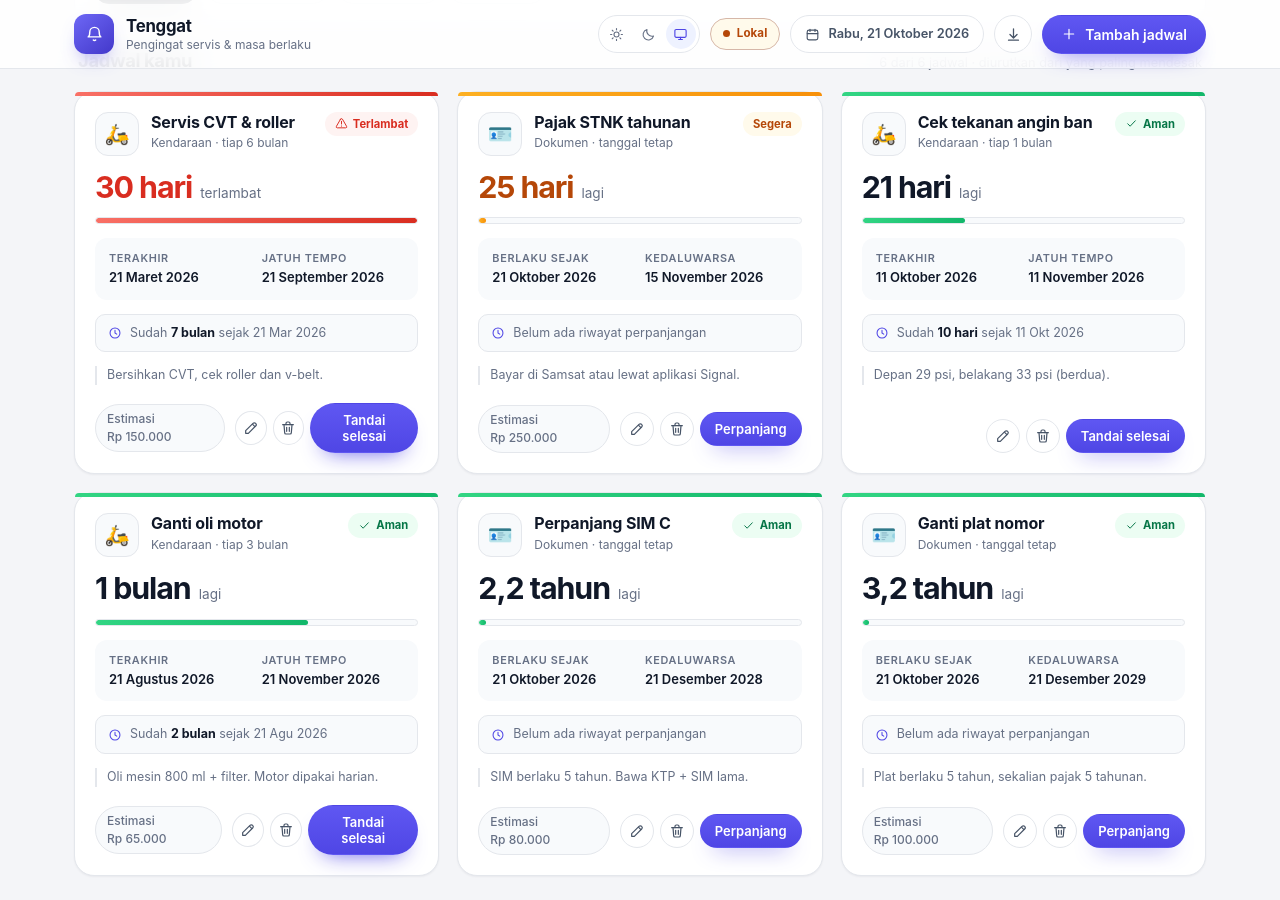
Test case: App › menandai selesai dan memperbarui tanggal terakhir
(page scrolled)
Expected: the text "Ganti oli motor" is shown, [151,513,263,533]
Click the button "Tandai selesai" next to "Rp 65.000" at {"x": 363, "y": 830}, box [308,805,418,855]
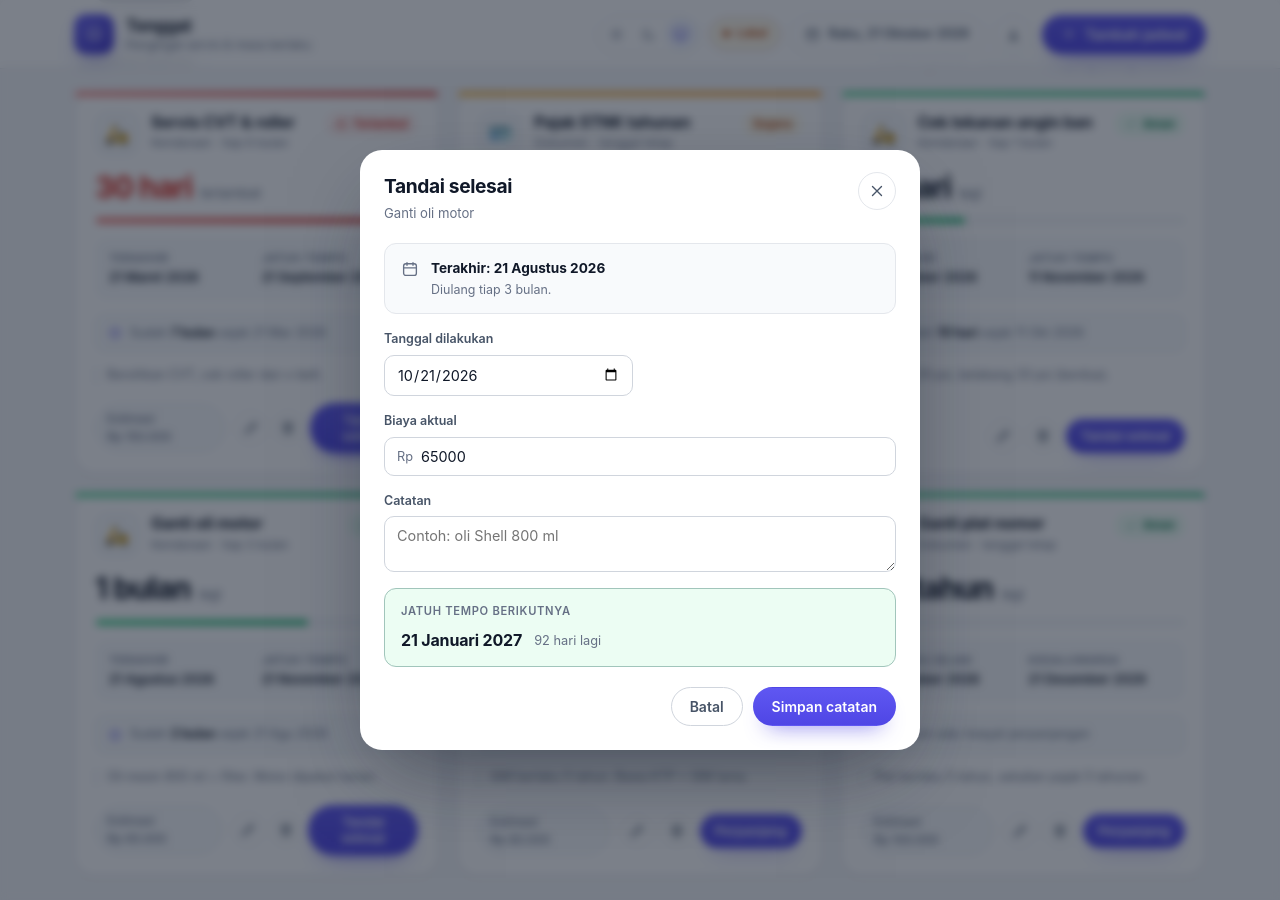
Type "2026-10-20" into the date field labelled "Tanggal dilakukan" at {"x": 508, "y": 376}, box [384,355,633,396]
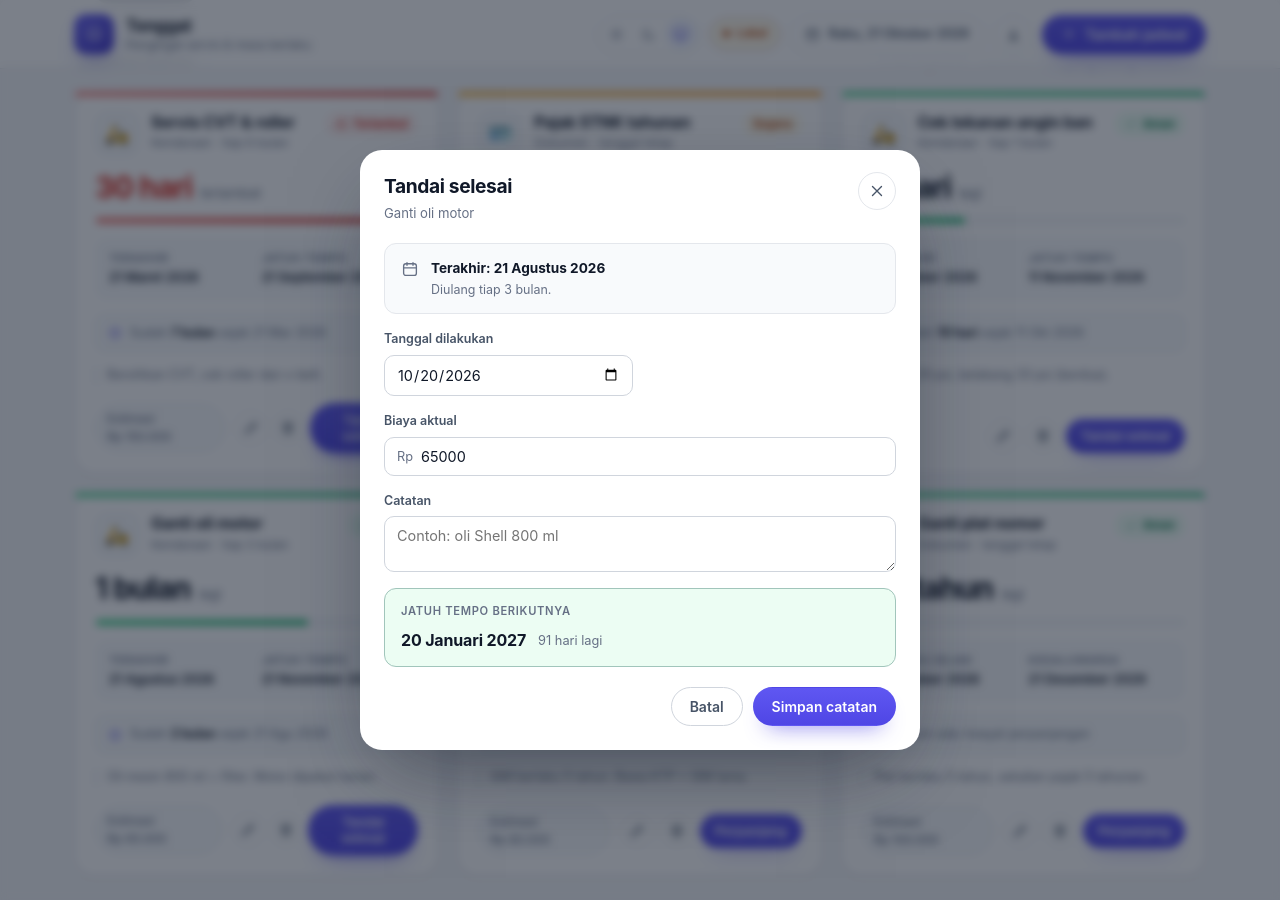
Click the button "Simpan catatan" at {"x": 824, "y": 707}, box [753,687,896,726]
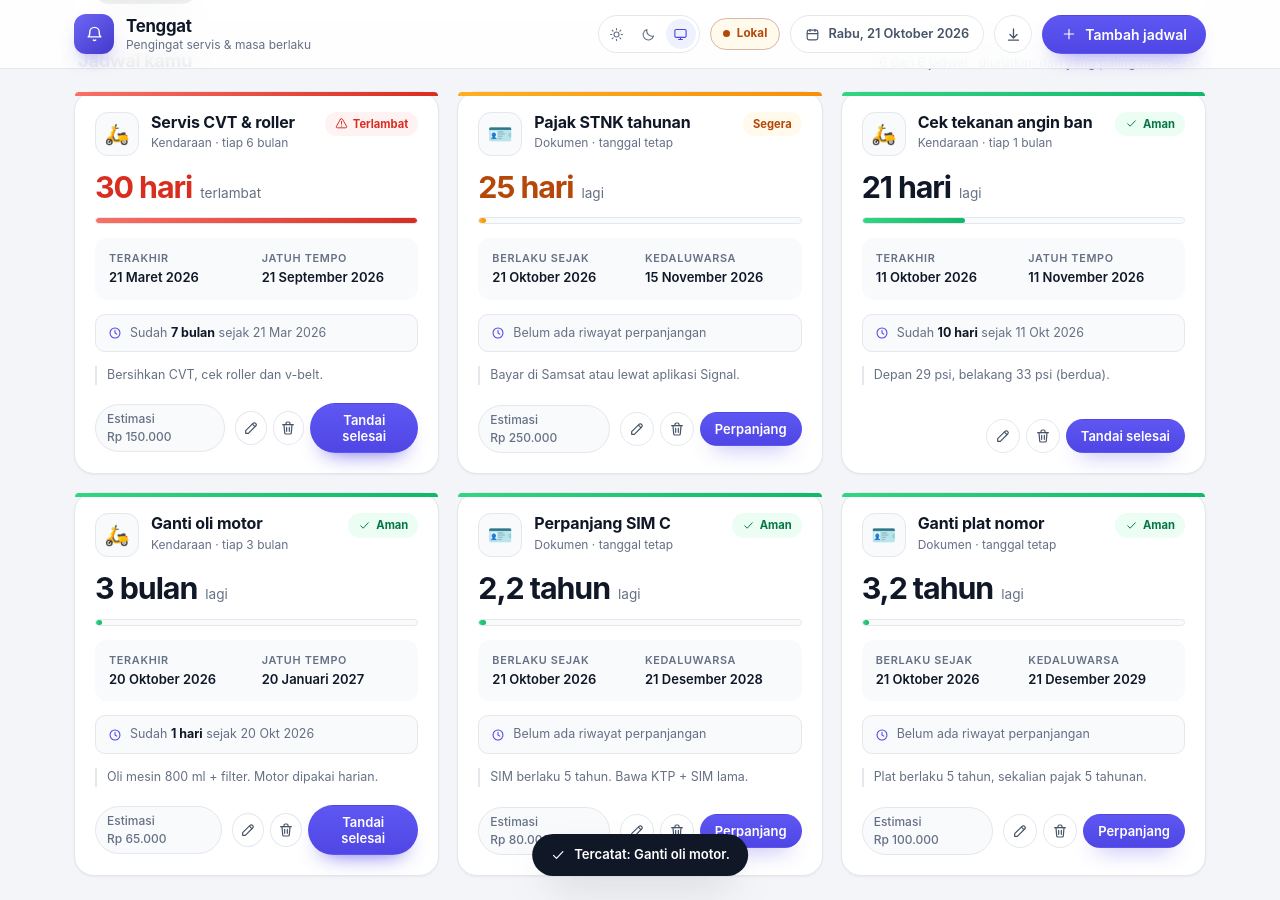
Expected: the text "Tercatat: Ganti oli motor." is shown, [532,834,748,876]
Expected: the dialog is gone
